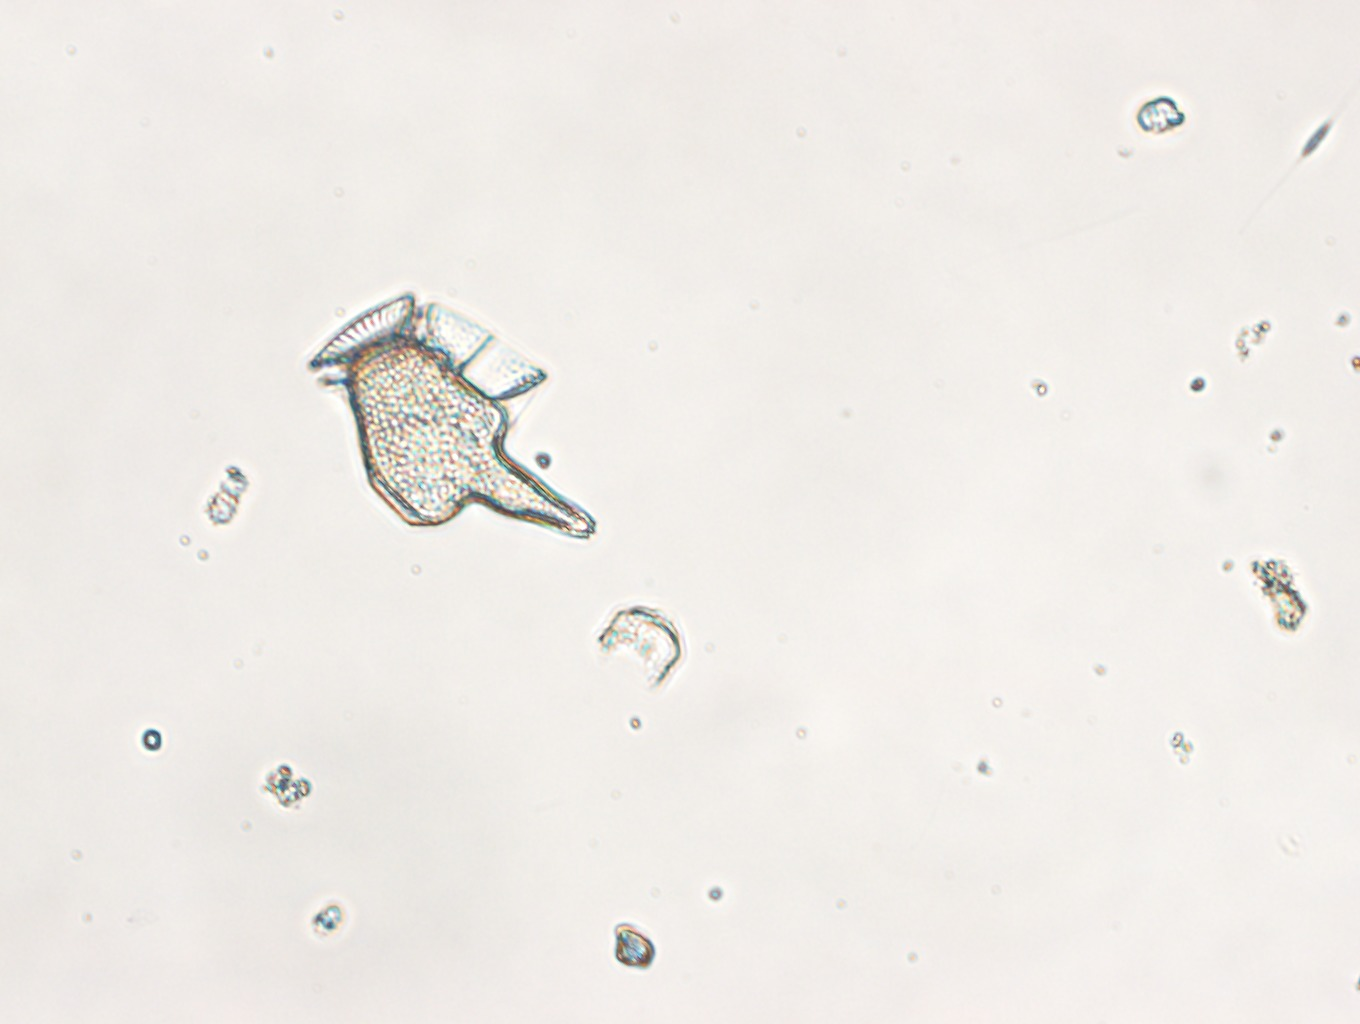dinophysis caudata: (307, 291, 599, 543)
